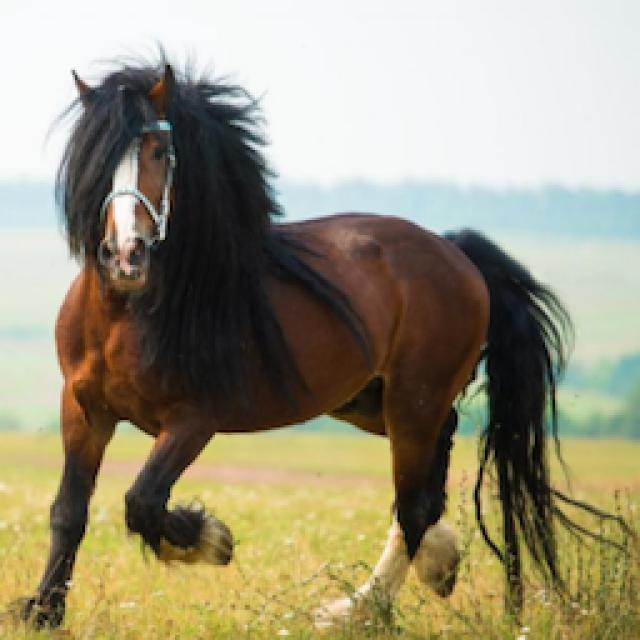Horse: (7, 42, 635, 636)
